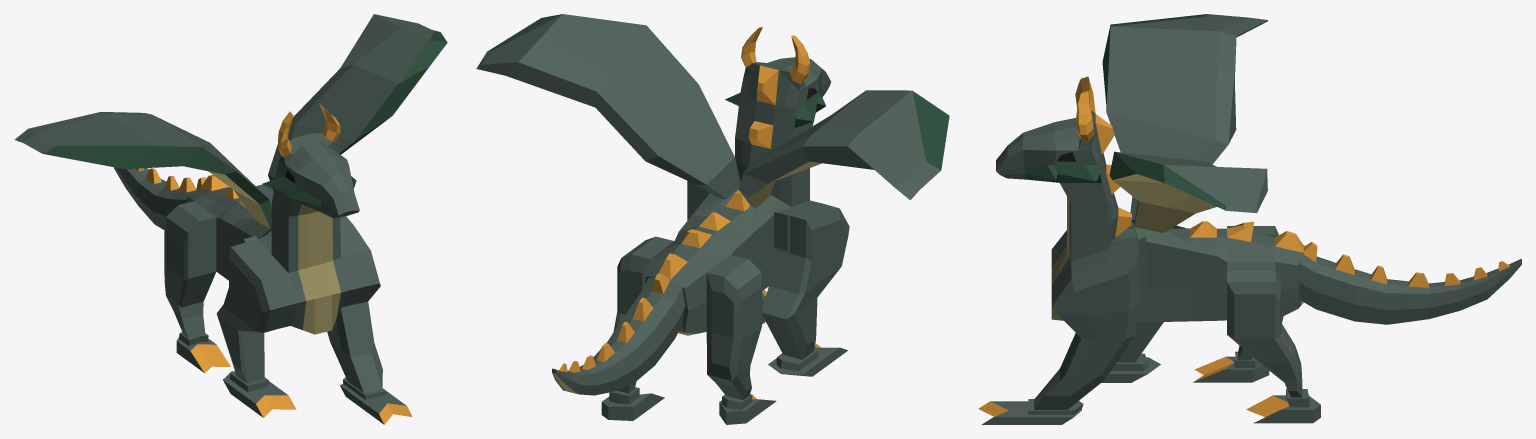
Rendered from dragonMinion.fbx.
The picture shows the model from 3 angles, left to right: view 1: azimuth 30°, elevation 25°; view 2: azimuth 150°, elevation 25°; view 3: azimuth 270°, elevation 25°; orthographic projection. The views are drawn at different scales.
Visible parts, largest first — view 1: Cube; view 2: Cube; view 3: Cube.
Boxes of the visible parts, box(x1,y1,x2,y2) form: Cube: box(14, 14, 447, 424); Cube: box(476, 14, 949, 424); Cube: box(978, 14, 1521, 424).
Size of the model in its own units: 2535 by 1741 by 2720.
